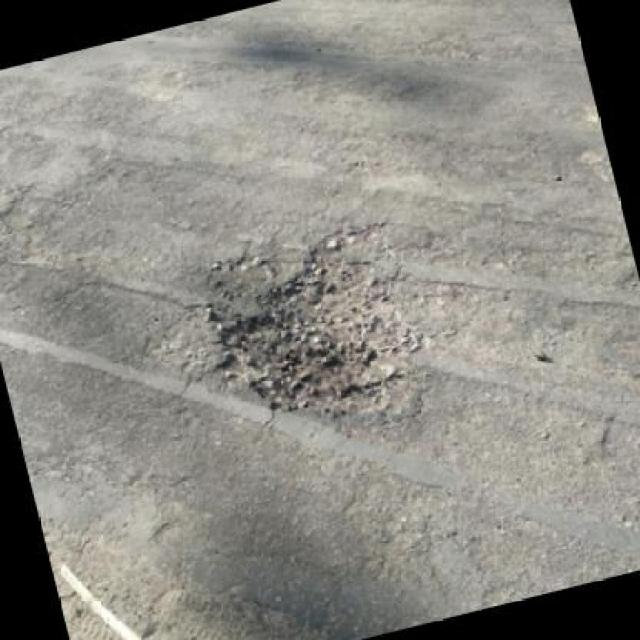pothole1: (195, 220, 432, 446)
